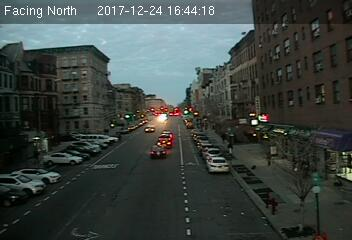car: (207, 155, 230, 173), (149, 144, 166, 158)
